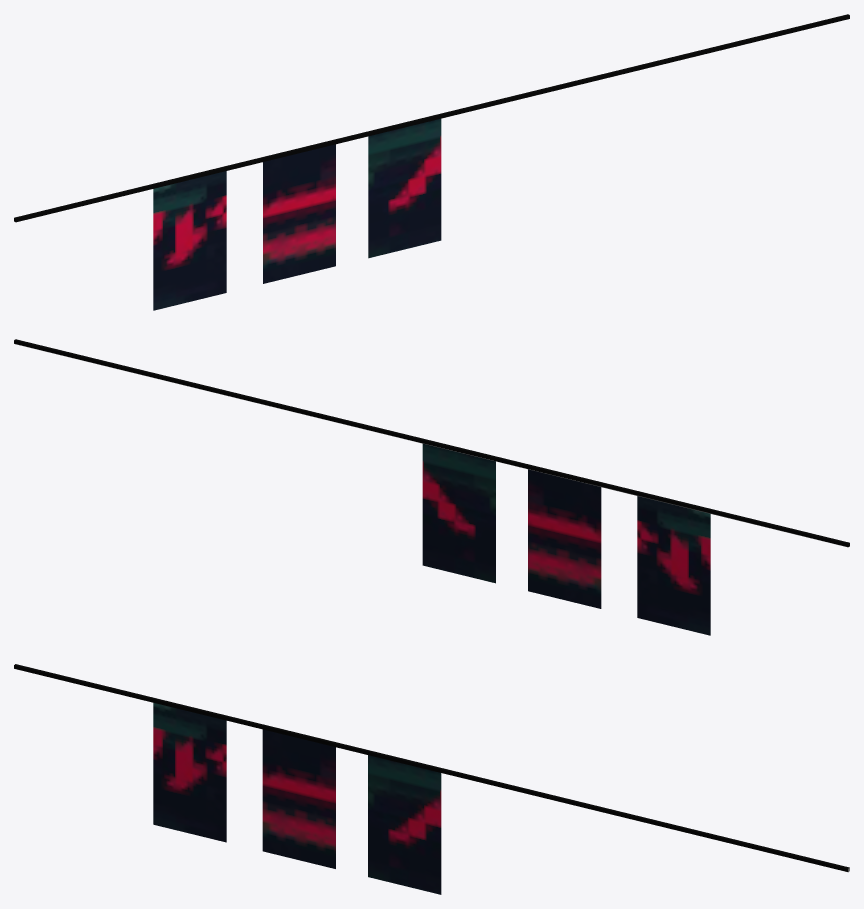
File: Flags_01.glb
3 views of the same model, one above another, from view 1: azimuth 30°, elevation 25°; view 2: azimuth 150°, elevation 25°; view 3: azimuth 330°, elevation 25° (orthographic).
Parts seen in each view (by area): view 1: flags_01_geo; view 2: flags_01_geo; view 3: flags_01_geo.
Boxes of the visible parts, x1=… form: flags_01_geo: x1=14, y1=14, x2=849, y2=310; flags_01_geo: x1=14, y1=339, x2=849, y2=635; flags_01_geo: x1=14, y1=664, x2=849, y2=894.
Size of what is drawn, in the model's own units: 11.34 by 1.64 by 0.0392.
1 material, 1 textured.
